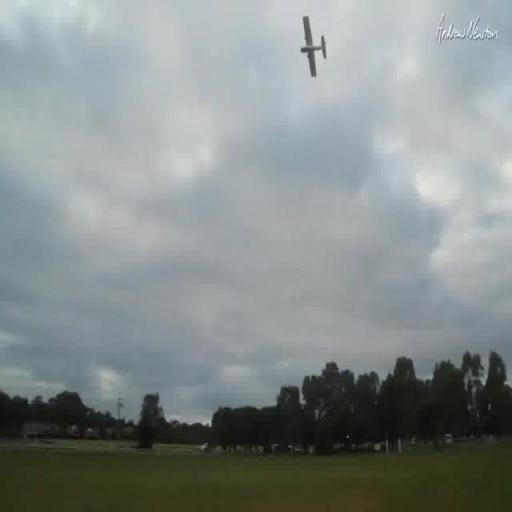uav: (286, 6, 336, 94)
